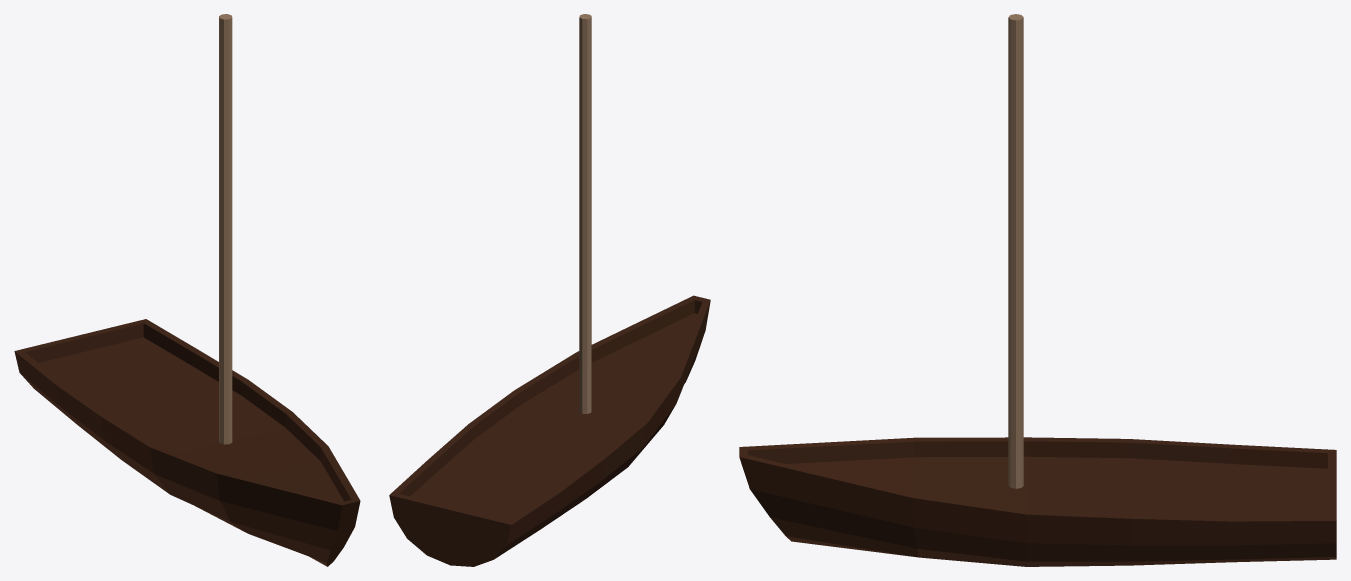
Rendered from Kleines_Segelboot.fbx.
3 renders of one model, left to right at view 1: azimuth 30°, elevation 25°; view 2: azimuth 150°, elevation 25°; view 3: azimuth 270°, elevation 25°, orthographic. The views are drawn at different scales.
Visible parts, largest first — view 1: Boot, Mast; view 2: Boot, Mast; view 3: Boot, Mast.
Boxes of the visible parts, bbox=[...] form: Boot: bbox=[14, 319, 360, 566]; Mast: bbox=[219, 14, 232, 444]; Boot: bbox=[389, 295, 710, 566]; Mast: bbox=[579, 14, 591, 413]; Boot: bbox=[739, 437, 1336, 566]; Mast: bbox=[1008, 14, 1023, 488].
Size of the model in its own units: 621 by 1964 by 1965.
